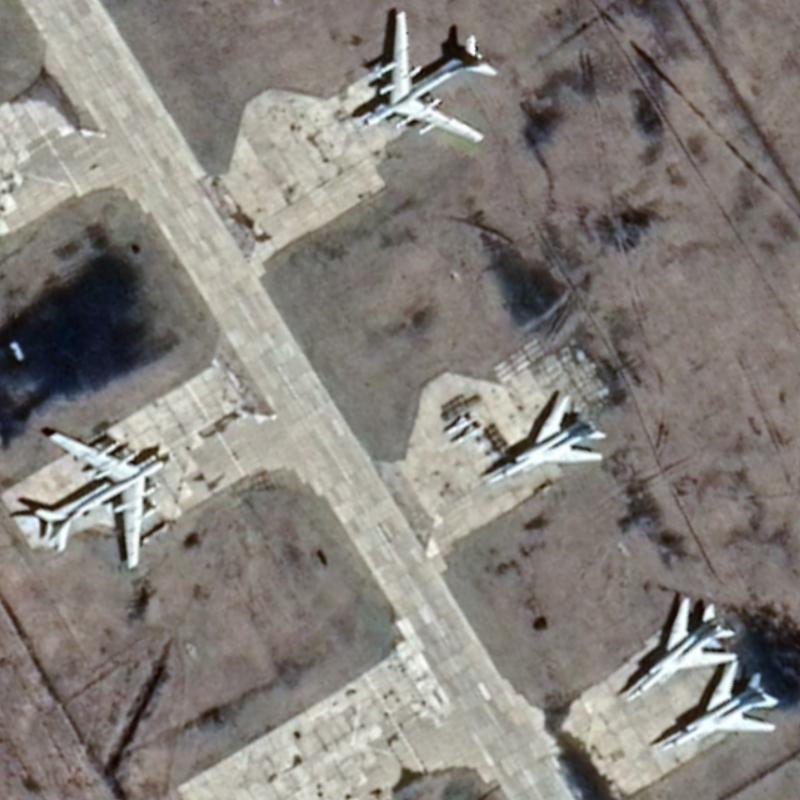A12: (623, 595, 741, 705), (485, 393, 608, 487), (658, 659, 782, 752)
A17: (32, 430, 171, 571), (361, 8, 500, 146)
